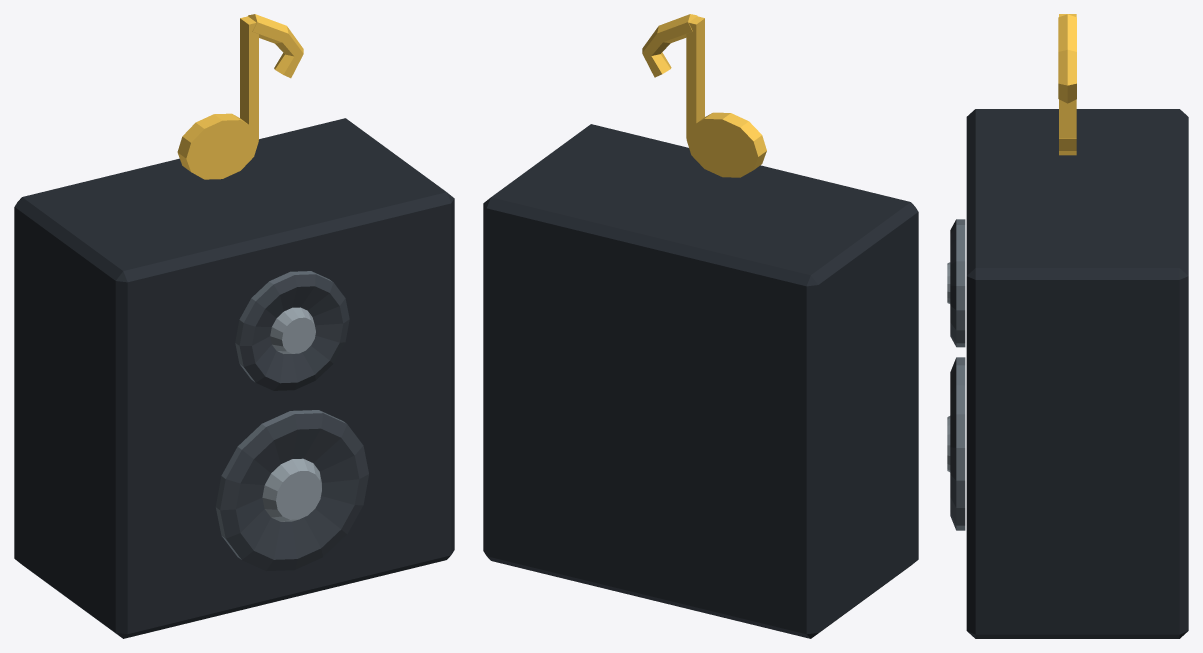
The model's file is speaker.glb.
The picture shows the model from 3 angles, left to right: view 1: azimuth 30°, elevation 25°; view 2: azimuth 150°, elevation 25°; view 3: azimuth 270°, elevation 25°; orthographic projection.
Parts seen in each view (by area): view 1: speaker; view 2: speaker; view 3: speaker.
Part boxes in pixels (x1,y1,x2,y2): speaker: (14, 14, 454, 638); speaker: (483, 14, 918, 638); speaker: (947, 14, 1188, 638).
Bounding box in the file's own units: 0.4 × 0.6185 × 0.2445.
